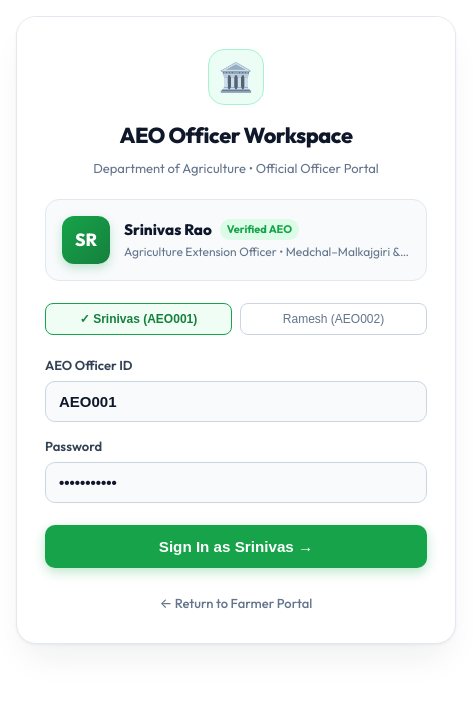
Test case: Phase: Officer Login & Auth Tests › fails with invalid officer ID and displays error message
Replace the text in the field with test id "officer-id-input" with "WRONG_ID": (236, 401) [45,381,427,422]
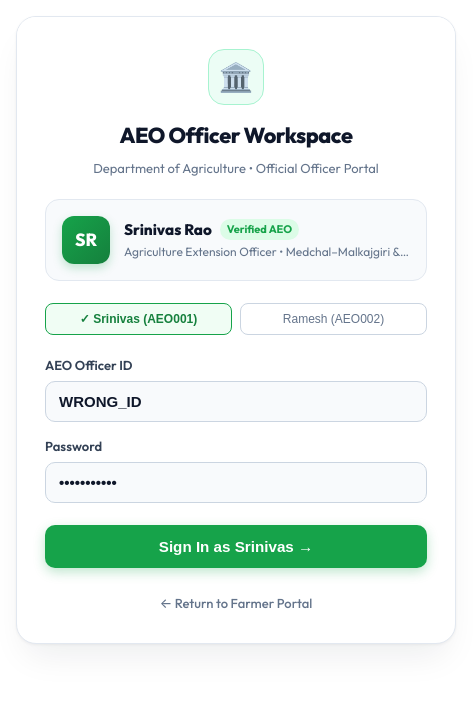
In the password field with test id "officer-password-input": (236, 482) [45,462,427,503], type "123456"
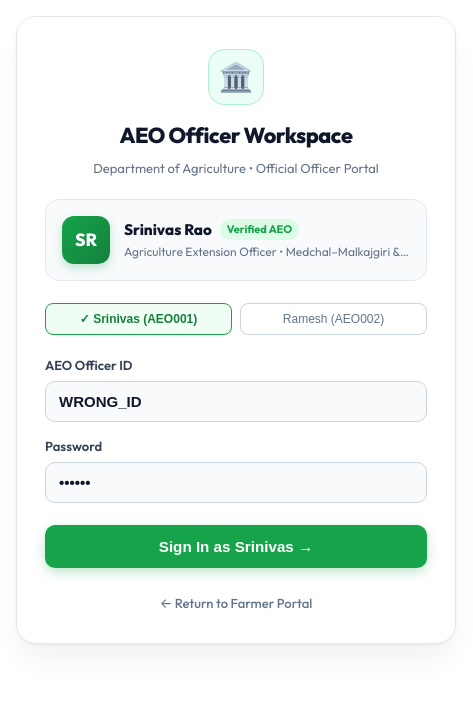
Click the button with test id "officer-login-submit-btn": (236, 546) [45,525,427,568]
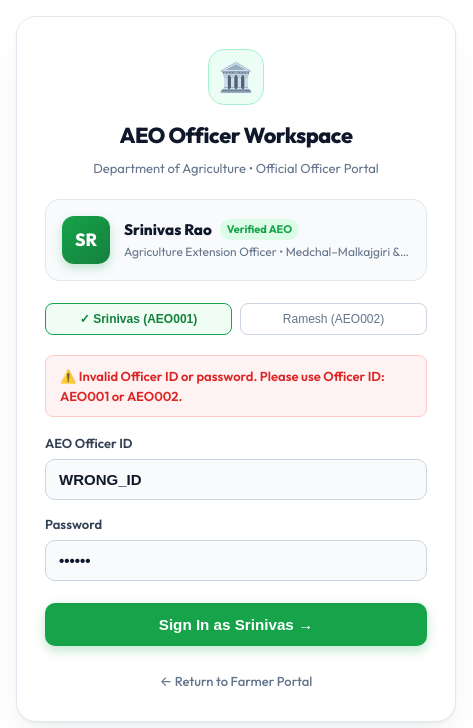
Expected: the text with test id "login-error-message" is shown, [45,355,427,417]
Expected: the text "Invalid Officer ID or password" is shown, [60,368,385,404]
